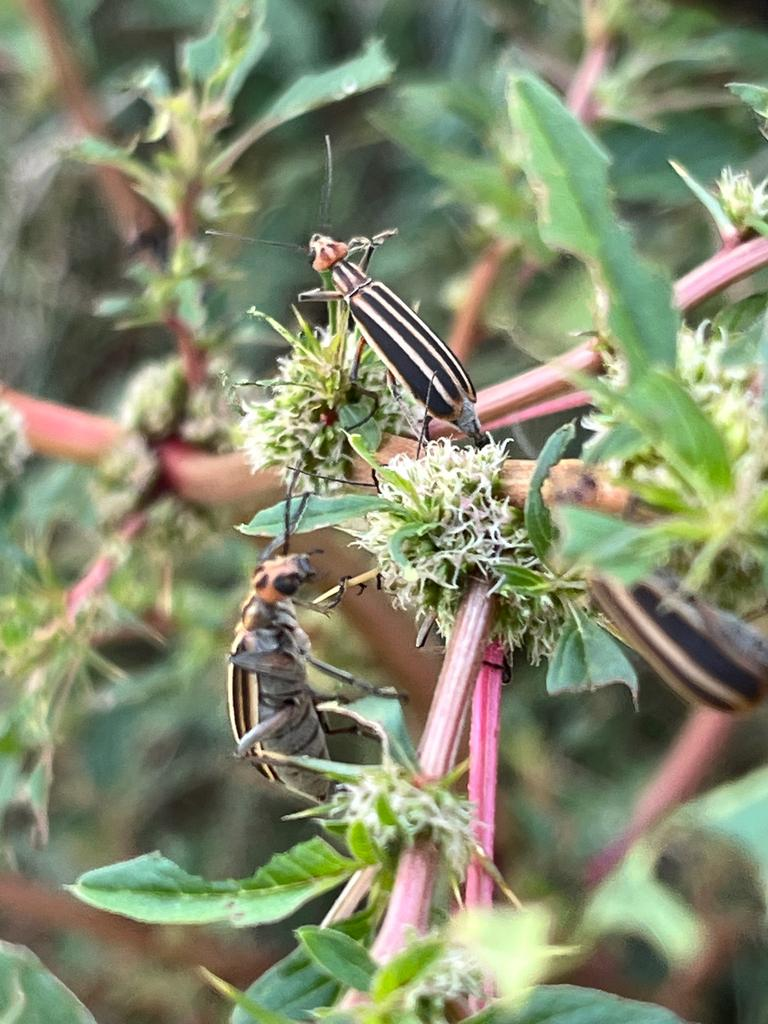blister_beetle: (164, 85, 584, 505), (167, 469, 420, 849)
